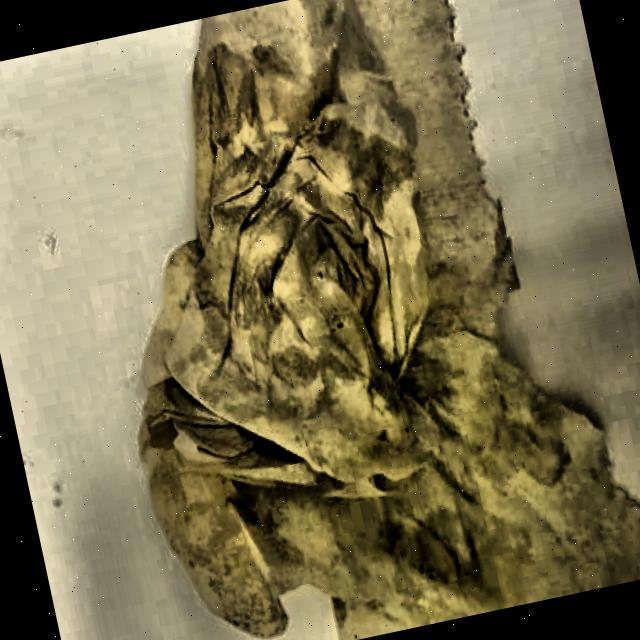trash: (113, 0, 593, 638)
